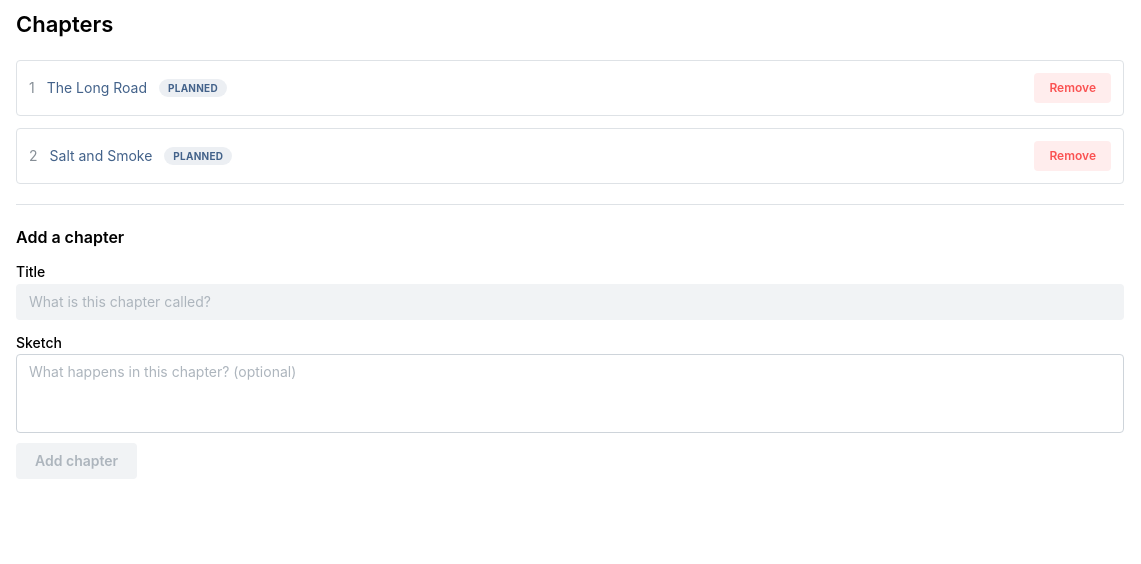
ChaptersPage — adding a chapter › DoD-4 (UC-031): a newly added chapter appears LAST, even though the server hands it back first
In the field labelled "Title": (570, 302) [16,284,1124,320], type "A chapter as the author typed it"
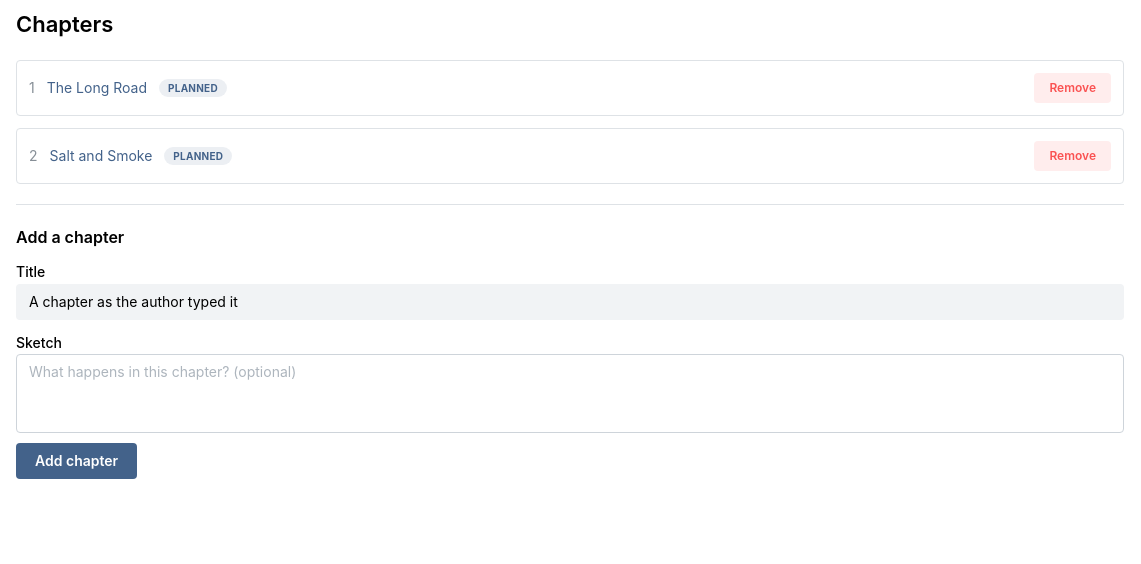
In the text box labelled "Sketch": (570, 394) [16,354,1124,433], type "Two brothers meet on the ice and neither speaks."
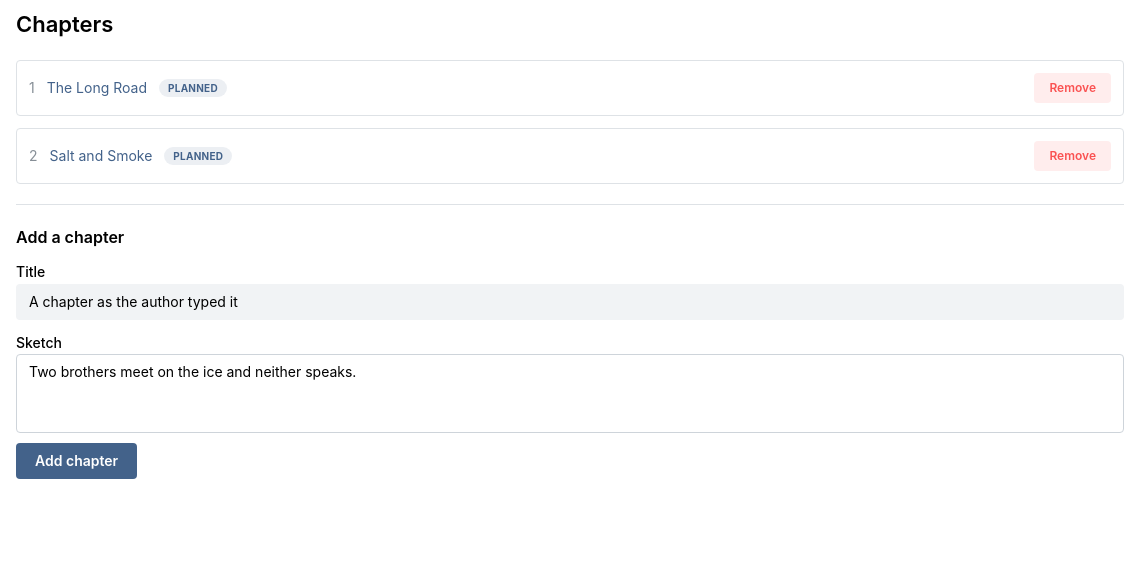
Click the button "Add chapter": (77, 461) [16,443,137,479]
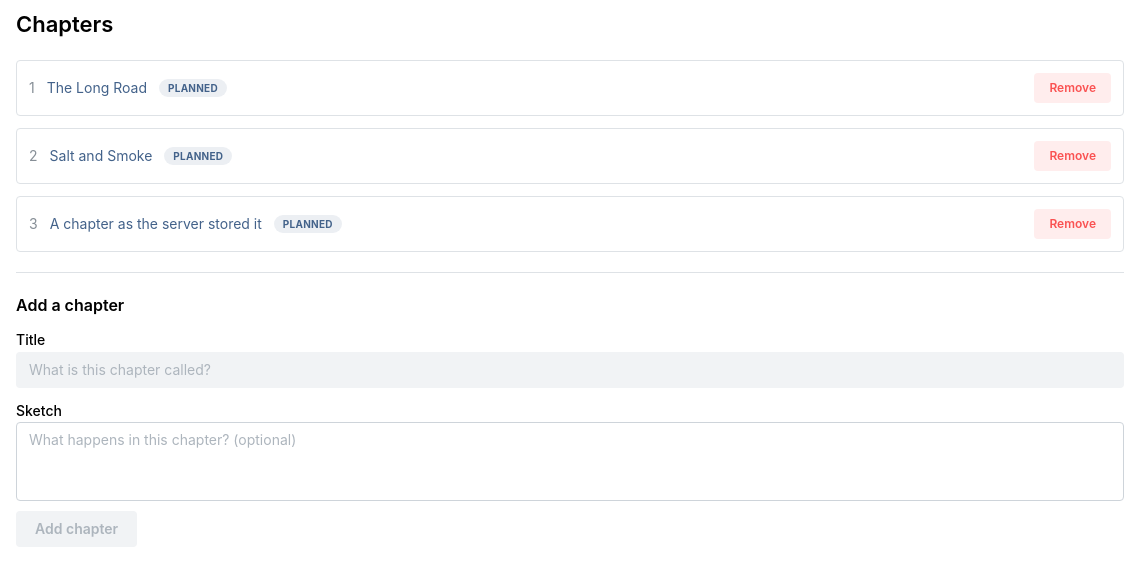
Expected: the text "The Long Road" is shown, [47,78,147,98]
Expected: the text "A chapter as the server stored it" is shown, [50,214,262,234]
